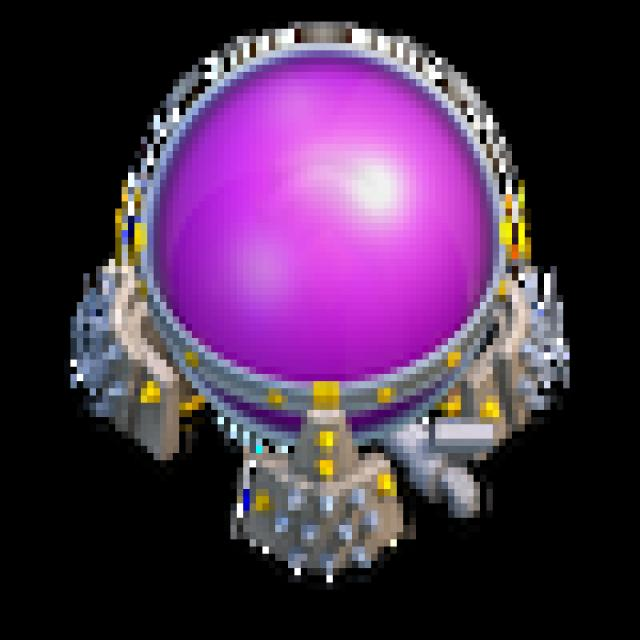elixir_storage: (69, 12, 563, 590)
